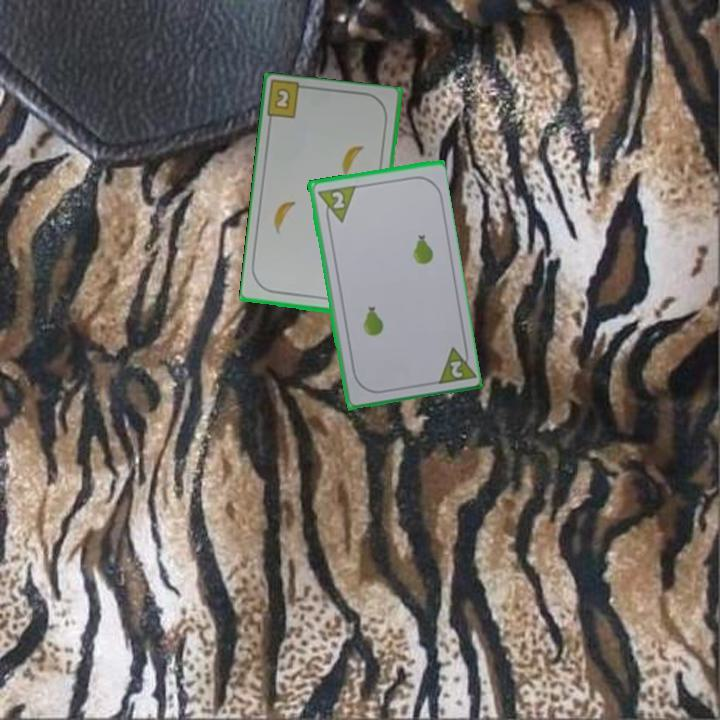2b: (271, 84, 294, 113)
2p: (432, 340, 476, 387), (313, 181, 357, 227)
